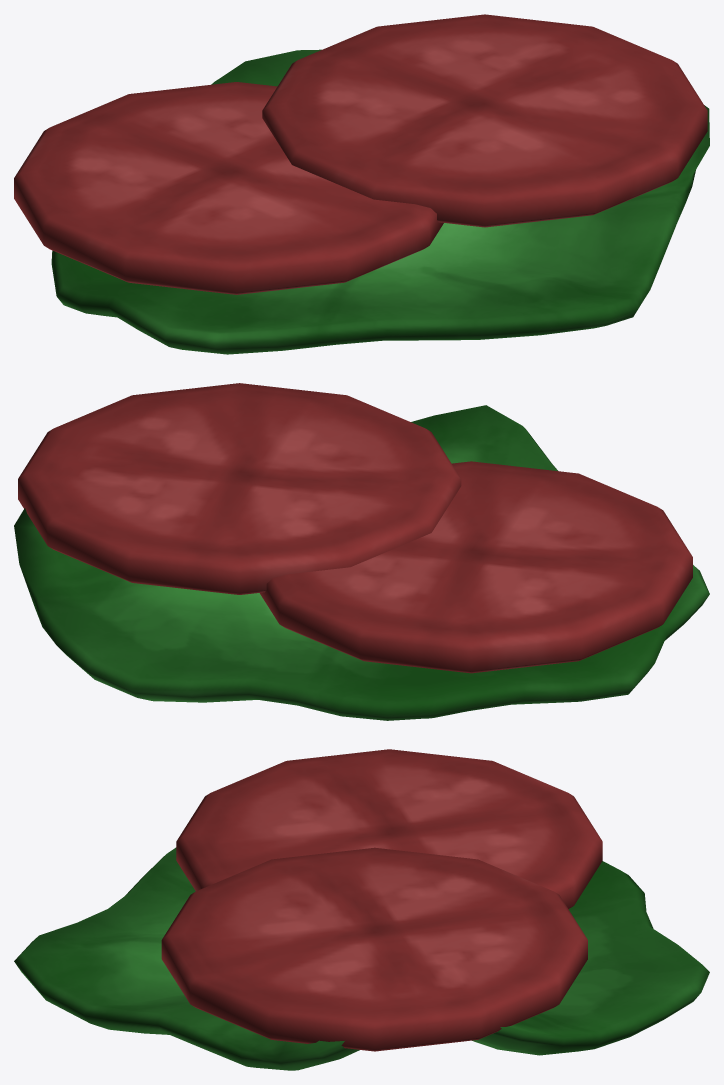
The model's file is MSH_L_J.fbx.
The picture shows the model from 3 angles, top to bottom: view 1: azimuth 30°, elevation 25°; view 2: azimuth 150°, elevation 25°; view 3: azimuth 270°, elevation 25°; orthographic projection. The views are drawn at different scales.
Parts seen in each view (by area): view 1: MSH_L_J; view 2: MSH_L_J; view 3: MSH_L_J.
Part boxes in pixels (x1,y1,x2,y2): MSH_L_J: (14, 14, 709, 354); MSH_L_J: (14, 383, 709, 720); MSH_L_J: (14, 749, 709, 1070).
Bounding box in the file's own units: 16.81 × 16.87 × 3.57.
1 material, 1 textured.
